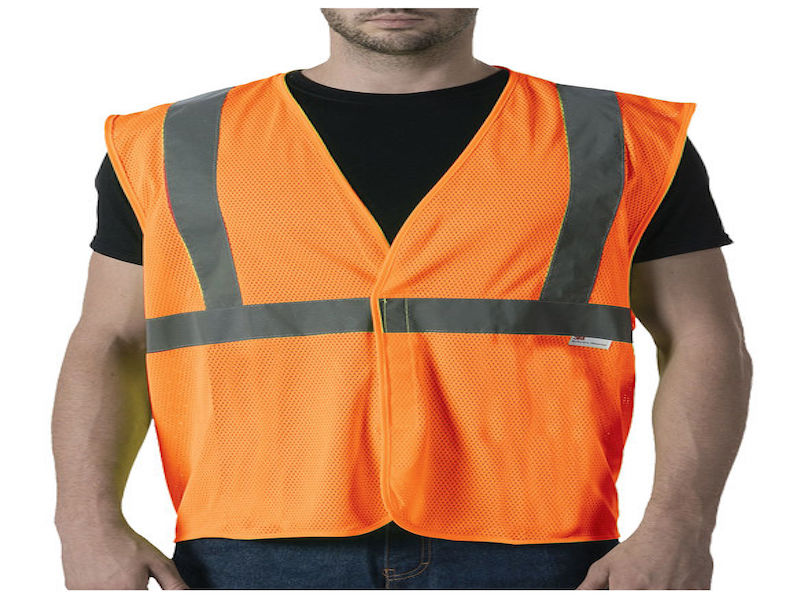vest: (110, 50, 653, 546)
